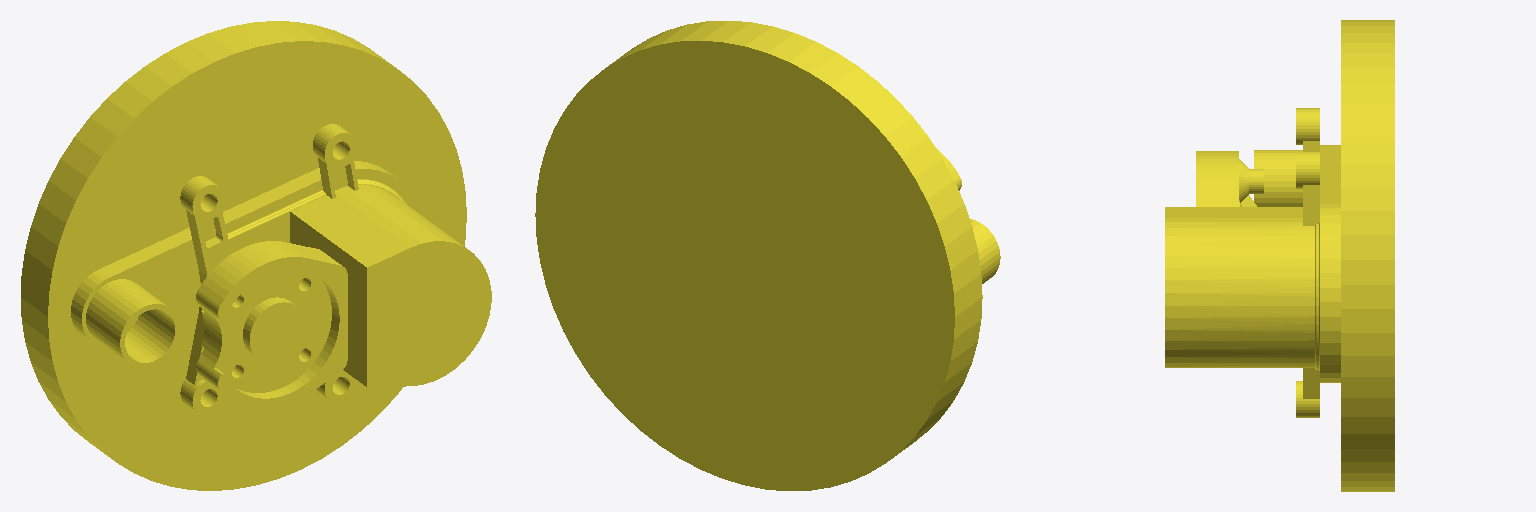
URDF robot description (ur5e_with_festool_kit):
<?xml version="1.0" encoding="utf-8"?>
<!-- =================================================================================== -->
<!-- |    This document was autogenerated by xacro from ur5e_with_festool_kit.xacro    | -->
<!-- |    EDITING THIS FILE BY HAND IS NOT RECOMMENDED                                 | -->
<!-- =================================================================================== -->
<robot name="ur5e_with_festool_kit">
  <!--
    Base UR robot series xacro macro.

    NOTE: this is NOT a URDF. It cannot directly be loaded by consumers
    expecting a flattened '.urdf' file. See the top-level '.xacro' for that
    (but note: that .xacro must still be processed by the xacro command).

    For use in '.launch' files: use one of the 'load_urX.launch' convenience
    launch files.

    This file models the base kinematic chain of a UR robot, which then gets
    parameterised by various configuration files to convert it into a UR3(e),
    UR5(e), UR10(e) or UR16e.

    NOTE: the default kinematic parameters (ie: link lengths, frame locations,
    offets, etc) do not correspond to any particular robot. They are defaults
    only. There WILL be non-zero offsets between the Forward Kinematics results
    in TF (ie: robot_state_publisher) and the values reported by the Teach
    Pendant.

    For accurate (and robot-specific) transforms, the 'kinematics_parameters_file'
    parameter MUST point to a .yaml file containing the appropriate values for
    the targetted robot.

    If using the UniversalRobots/Universal_Robots_ROS_Driver, follow the steps
    described in the readme of that repository to extract the kinematic
    calibration from the controller and generate the required .yaml file.

    Main author of the migration to yaml configs: [author].

    Contributors to previous versions (in no particular order):

     - [author]
     - [author]
     - [author]
     - [author]
     - [author]
     - [author]
     - [author]
     - [author]
     - [author]
     - [author]
     - [author]
     - [author]
     - [author]
     - [author]
     - [author]
     - [author]
     - [author]
  -->
  <!--
    NOTE: the macro defined in this file is NOT part of the public API of this
          package. Users CANNOT rely on this file being available, or stored in
          this location. Nor can they rely on the existence of the macro.
  -->
  <transmission name="shoulder_pan_trans">
    <type>transmission_interface/SimpleTransmission</type>
    <joint name="shoulder_pan_joint">
      <hardwareInterface>hardware_interface/PositionJointInterface</hardwareInterface>
    </joint>
    <actuator name="shoulder_pan_motor">
      <mechanicalReduction>1</mechanicalReduction>
    </actuator>
  </transmission>
  <transmission name="shoulder_lift_trans">
    <type>transmission_interface/SimpleTransmission</type>
    <joint name="shoulder_lift_joint">
      <hardwareInterface>hardware_interface/PositionJointInterface</hardwareInterface>
    </joint>
    <actuator name="shoulder_lift_motor">
      <mechanicalReduction>1</mechanicalReduction>
    </actuator>
  </transmission>
  <transmission name="elbow_trans">
    <type>transmission_interface/SimpleTransmission</type>
    <joint name="elbow_joint">
      <hardwareInterface>hardware_interface/PositionJointInterface</hardwareInterface>
    </joint>
    <actuator name="elbow_motor">
      <mechanicalReduction>1</mechanicalReduction>
    </actuator>
  </transmission>
  <transmission name="wrist_1_trans">
    <type>transmission_interface/SimpleTransmission</type>
    <joint name="wrist_1_joint">
      <hardwareInterface>hardware_interface/PositionJointInterface</hardwareInterface>
    </joint>
    <actuator name="wrist_1_motor">
      <mechanicalReduction>1</mechanicalReduction>
    </actuator>
  </transmission>
  <transmission name="wrist_2_trans">
    <type>transmission_interface/SimpleTransmission</type>
    <joint name="wrist_2_joint">
      <hardwareInterface>hardware_interface/PositionJointInterface</hardwareInterface>
    </joint>
    <actuator name="wrist_2_motor">
      <mechanicalReduction>1</mechanicalReduction>
    </actuator>
  </transmission>
  <transmission name="wrist_3_trans">
    <type>transmission_interface/SimpleTransmission</type>
    <joint name="wrist_3_joint">
      <hardwareInterface>hardware_interface/PositionJointInterface</hardwareInterface>
    </joint>
    <actuator name="wrist_3_motor">
      <mechanicalReduction>1</mechanicalReduction>
    </actuator>
  </transmission>
  <!-- links: main serial chain -->
  <link name="base_link"/>
  <link name="base_link_inertia">
    <visual>
      <origin rpy="0 0 3.14159265359" xyz="0 0 0"/>
      <geometry>
        <mesh filename="package://ur_description/meshes/ur5e/visual/base.dae"/>
      </geometry>
      <material name="LightGrey">
        <color rgba="0.7 0.7 0.7 1.0"/>
      </material>
    </visual>
    <collision>
      <origin rpy="0 0 3.14159265359" xyz="0 0 0"/>
      <geometry>
        <mesh filename="package://ur_description/meshes/ur5e/collision/base.stl"/>
      </geometry>
    </collision>
    <inertial>
      <mass value="4.0"/>
      <origin rpy="0 0 0" xyz="0 0 0"/>
      <inertia ixx="0.00443333156" ixy="0.0" ixz="0.0" iyy="0.00443333156" iyz="0.0" izz="0.0072"/>
    </inertial>
  </link>
  <link name="shoulder_link">
    <visual>
      <origin rpy="0 0 3.14159265359" xyz="0 0 0"/>
      <geometry>
        <mesh filename="package://ur_description/meshes/ur5e/visual/shoulder.dae"/>
      </geometry>
      <material name="LightGrey">
        <color rgba="0.7 0.7 0.7 1.0"/>
      </material>
    </visual>
    <collision>
      <origin rpy="0 0 3.14159265359" xyz="0 0 0"/>
      <geometry>
        <mesh filename="package://ur_description/meshes/ur5e/collision/shoulder.stl"/>
      </geometry>
    </collision>
    <inertial>
      <mass value="3.7"/>
      <origin rpy="0 0 0" xyz="0 0 0"/>
      <inertia ixx="0.010267495893" ixy="0.0" ixz="0.0" iyy="0.010267495893" iyz="0.0" izz="0.00666"/>
    </inertial>
  </link>
  <link name="upper_arm_link">
    <visual>
      <origin rpy="1.57079632679 0 -1.57079632679" xyz="0 0 0.138"/>
      <geometry>
        <mesh filename="package://ur_description/meshes/ur5e/visual/upperarm.dae"/>
      </geometry>
      <material name="LightGrey">
        <color rgba="0.7 0.7 0.7 1.0"/>
      </material>
    </visual>
    <collision>
      <origin rpy="1.57079632679 0 -1.57079632679" xyz="0 0 0.138"/>
      <geometry>
        <mesh filename="package://ur_description/meshes/ur5e/collision/upperarm.stl"/>
      </geometry>
    </collision>
    <inertial>
      <mass value="8.393"/>
      <origin rpy="0 1.57079632679 0" xyz="-0.2125 0.0 0.138"/>
      <inertia ixx="0.133885781862" ixy="0.0" ixz="0.0" iyy="0.133885781862" iyz="0.0" izz="0.0151074"/>
    </inertial>
  </link>
  <link name="forearm_link">
    <visual>
      <origin rpy="1.57079632679 0 -1.57079632679" xyz="0 0 0.007"/>
      <geometry>
        <mesh filename="package://ur_description/meshes/ur5e/visual/forearm.dae"/>
      </geometry>
      <material name="LightGrey">
        <color rgba="0.7 0.7 0.7 1.0"/>
      </material>
    </visual>
    <collision>
      <origin rpy="1.57079632679 0 -1.57079632679" xyz="0 0 0.007"/>
      <geometry>
        <mesh filename="package://ur_description/meshes/ur5e/collision/forearm.stl"/>
      </geometry>
    </collision>
    <inertial>
      <mass value="2.275"/>
      <origin rpy="0 1.57079632679 0" xyz="-0.1961 0.0 0.007"/>
      <inertia ixx="0.0312093550996" ixy="0.0" ixz="0.0" iyy="0.0312093550996" iyz="0.0" izz="0.004095"/>
    </inertial>
  </link>
  <link name="wrist_1_link">
    <visual>
      <!-- TODO: Move this to a parameter -->
      <origin rpy="1.57079632679 0 0" xyz="0 0 -0.127"/>
      <geometry>
        <mesh filename="package://ur_description/meshes/ur5e/visual/wrist1.dae"/>
      </geometry>
      <material name="LightGrey">
        <color rgba="0.7 0.7 0.7 1.0"/>
      </material>
    </visual>
    <collision>
      <origin rpy="1.57079632679 0 0" xyz="0 0 -0.127"/>
      <geometry>
        <mesh filename="package://ur_description/meshes/ur5e/collision/wrist1.stl"/>
      </geometry>
    </collision>
    <inertial>
      <mass value="1.219"/>
      <origin rpy="0 0 0" xyz="0 0 0"/>
      <inertia ixx="0.00255989897604" ixy="0.0" ixz="0.0" iyy="0.00255989897604" iyz="0.0" izz="0.0021942"/>
    </inertial>
  </link>
  <link name="wrist_2_link">
    <visual>
      <origin rpy="0 0 0" xyz="0 0 -0.0997"/>
      <geometry>
        <mesh filename="package://ur_description/meshes/ur5e/visual/wrist2.dae"/>
      </geometry>
      <material name="LightGrey">
        <color rgba="0.7 0.7 0.7 1.0"/>
      </material>
    </visual>
    <collision>
      <origin rpy="0 0 0" xyz="0 0 -0.0997"/>
      <geometry>
        <mesh filename="package://ur_description/meshes/ur5e/collision/wrist2.stl"/>
      </geometry>
    </collision>
    <inertial>
      <mass value="1.219"/>
      <origin rpy="0 0 0" xyz="0 0 0"/>
      <inertia ixx="0.00255989897604" ixy="0.0" ixz="0.0" iyy="0.00255989897604" iyz="0.0" izz="0.0021942"/>
    </inertial>
  </link>
  <link name="wrist_3_link">
    <visual>
      <origin rpy="1.57079632679 0 0" xyz="0 0 -0.0989"/>
      <geometry>
        <mesh filename="package://ur_description/meshes/ur5e/visual/wrist3.dae"/>
      </geometry>
      <material name="LightGrey">
        <color rgba="0.7 0.7 0.7 1.0"/>
      </material>
    </visual>
    <collision>
      <origin rpy="1.57079632679 0 0" xyz="0 0 -0.0989"/>
      <geometry>
        <mesh filename="package://ur_description/meshes/ur5e/collision/wrist3.stl"/>
      </geometry>
    </collision>
    <inertial>
      <mass value="0.1879"/>
      <origin rpy="0 0 0" xyz="0.0 0.0 -0.0229"/>
      <inertia ixx="9.89041005217e-05" ixy="0.0" ixz="0.0" iyy="9.89041005217e-05" iyz="0.0" izz="0.0001321171875"/>
    </inertial>
  </link>
  <!-- joints: main serial chain -->
  <joint name="base_link-base_link_inertia" type="fixed">
    <parent link="base_link"/>
    <child link="base_link_inertia"/>
    <!-- 'base_link' is REP-103 aligned (so X+ forward), while the internal
           frames of the robot/controller have X+ pointing backwards.
           Use the joint between 'base_link' and 'base_link_inertia' (a dummy
           link/frame) to introduce the necessary rotation over Z (of pi rad).
      -->
    <origin rpy="0 0 3.14159265359" xyz="0 0 0"/>
  </joint>
  <joint name="shoulder_pan_joint" type="revolute">
    <parent link="base_link_inertia"/>
    <child link="shoulder_link"/>
    <origin rpy="0 0 0" xyz="0 0 0.1625"/>
    <axis xyz="0 0 1"/>
    <limit effort="150.0" lower="-6.28318530718" upper="6.28318530718" velocity="3.14159265359"/>
    <dynamics damping="0" friction="0"/>
  </joint>
  <joint name="shoulder_lift_joint" type="revolute">
    <parent link="shoulder_link"/>
    <child link="upper_arm_link"/>
    <origin rpy="1.570796327 0 0" xyz="0 0 0"/>
    <axis xyz="0 0 1"/>
    <limit effort="150.0" lower="-6.28318530718" upper="6.28318530718" velocity="3.14159265359"/>
    <dynamics damping="0" friction="0"/>
  </joint>
  <joint name="elbow_joint" type="revolute">
    <parent link="upper_arm_link"/>
    <child link="forearm_link"/>
    <origin rpy="0 0 0" xyz="-0.425 0 0"/>
    <axis xyz="0 0 1"/>
    <limit effort="150.0" lower="-3.14159265359" upper="3.14159265359" velocity="3.14159265359"/>
    <dynamics damping="0" friction="0"/>
  </joint>
  <joint name="wrist_1_joint" type="revolute">
    <parent link="forearm_link"/>
    <child link="wrist_1_link"/>
    <origin rpy="0 0 0" xyz="-0.3922 0 0.1333"/>
    <axis xyz="0 0 1"/>
    <limit effort="28.0" lower="-6.28318530718" upper="6.28318530718" velocity="3.14159265359"/>
    <dynamics damping="0" friction="0"/>
  </joint>
  <joint name="wrist_2_joint" type="revolute">
    <parent link="wrist_1_link"/>
    <child link="wrist_2_link"/>
    <origin rpy="1.570796327 0 0" xyz="0 -0.0997 -2.0448811823e-11"/>
    <axis xyz="0 0 1"/>
    <limit effort="28.0" lower="-6.28318530718" upper="6.28318530718" velocity="3.14159265359"/>
    <dynamics damping="0" friction="0"/>
  </joint>
  <joint name="wrist_3_joint" type="revolute">
    <parent link="wrist_2_link"/>
    <child link="wrist_3_link"/>
    <origin rpy="1.57079632659 3.14159265359 3.14159265359" xyz="0 0.0996 -2.04283014801e-11"/>
    <axis xyz="0 0 1"/>
    <limit effort="28.0" lower="-6.28318530718" upper="6.28318530718" velocity="3.14159265359"/>
    <dynamics damping="0" friction="0"/>
  </joint>
  <!-- ROS-Industrial 'base' frame: base_link to UR 'Base' Coordinates transform -->
  <link name="base"/>
  <joint name="base_link-base_fixed_joint" type="fixed">
    <!-- Note the rotation over Z of pi radians: as base_link is REP-103
           aligned (ie: has X+ forward, Y+ left and Z+ up), this is needed
           to correctly align 'base' with the 'Base' coordinate system of
           the UR controller.
      -->
    <origin rpy="0 0 3.14159265359" xyz="0 0 0"/>
    <parent link="base_link"/>
    <child link="base"/>
  </joint>
  <!-- ROS-Industrial 'flange' frame: attachment point for EEF models -->
  <link name="flange"/>
  <joint name="wrist_3-flange" type="fixed">
    <parent link="wrist_3_link"/>
    <child link="flange"/>
    <origin rpy="0 -1.57079632679 -1.57079632679" xyz="0 0 0"/>
  </joint>
  <!-- ROS-Industrial 'tool0' frame: all-zeros tool frame -->
  <link name="tool0"/>
  <joint name="flange-tool0" type="fixed">
    <!-- default toolframe: X+ left, Y+ up, Z+ front -->
    <origin rpy="1.57079632679 0 1.57079632679" xyz="0 0 0"/>
    <parent link="flange"/>
    <child link="tool0"/>
  </joint>
  <!-- Create a fixed joint with a parameterized name. -->
  <joint name="festool_kit_joint" type="fixed">
    <!-- The parent link must be read from the robot model it is attached to. -->
    <parent link="tool0"/>
    <child link="festool_kit"/>
    <!-- The tool is directly attached to the flange -->
    <origin rpy="0 0 -1.5708" xyz="0 0 0"/>
  </joint>
  <link name="festool_kit">
    <visual>
      <geometry>
        <!-- The path to the visual meshes in the package. -->
        <mesh filename="package://pa_rgb/rviz/Festool_kit_mesh.STL"/>
      </geometry>
    </visual>
    <collision>
      <geometry>
        <!-- The path to the collision meshes in the package. -->
        <mesh filename="package://pa_rgb/rviz/Festool_kit_collision.STL"/>
      </geometry>
    </collision>
  </link>
  <!-- TCP frame -->
  <joint name="tcp_joint" type="fixed">
    <origin rpy="0 0 0" xyz="0 0 0.110"/>
    <parent link="festool_kit"/>
    <child link="tcp"/>
  </joint>
  <link name="tcp"/>
  <!-- define the ur5's position and orientation in the world coordinate system -->
  <link name="world"/>
  <joint name="world_joint" type="fixed">
    <parent link="world"/>
    <child link="base_link"/>
    <!-- TODO: check base_link name of robot -->
    <origin rpy="0.0 0.0 0.0" xyz="0.0 0.0 0.0"/>
  </joint>
</robot>

--- Render facts (derived) ---
3 views of the same robot in one strip: view 1: azimuth 30°, elevation 25°; view 2: azimuth 150°, elevation 25°; view 3: azimuth 270°, elevation 25° (orthographic).
Model ur5e_with_festool_kit with 14 links and 13 joints (6 revolute, 7 fixed), rooted at world, posed all joints at 0.
Visible links, largest first — view 1: festool_kit; view 2: festool_kit; view 3: festool_kit.
Boxes of the visible links, bbox=[...] form: festool_kit: bbox=[21, 21, 491, 490]; festool_kit: bbox=[535, 21, 1000, 490]; festool_kit: bbox=[1165, 20, 1394, 491].
Size in the robot's own frame: 0.22 by 0.1074 by 0.22 metres.
1 mesh visuals loaded from 8 distinct referenced files (1 binary STL); not drawn: 7 (reference not matched to a file when rendering).